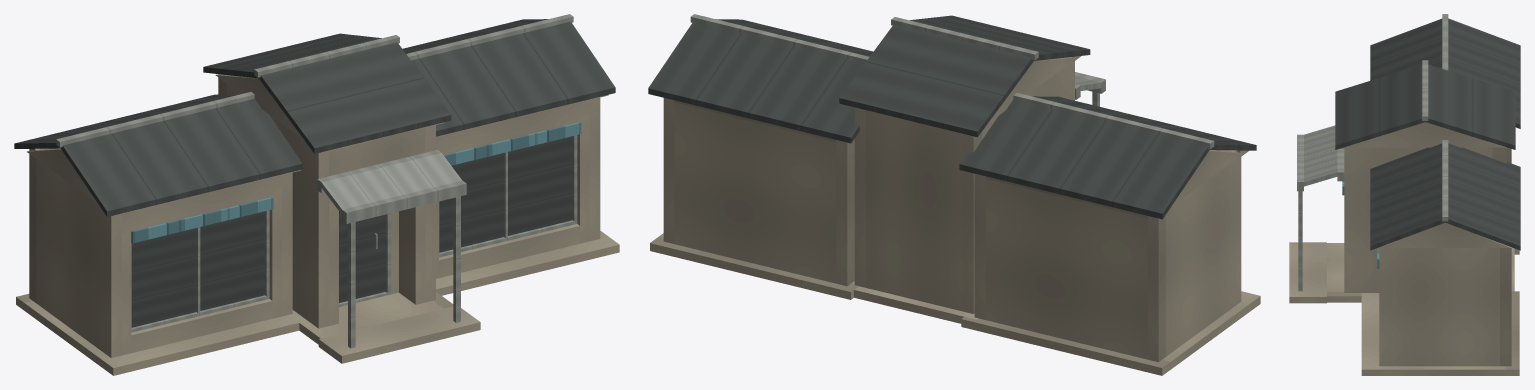
The picture shows the model from 3 angles, left to right: view 1: azimuth 30°, elevation 25°; view 2: azimuth 150°, elevation 25°; view 3: azimuth 270°, elevation 25°; orthographic projection. The views are drawn at different scales.
Visible parts, largest first — view 1: bogota; view 2: bogota; view 3: bogota.
Part boxes in pixels (left/top/right/bottom): bogota: left=14, top=14, right=619, bottom=375; bogota: left=648, top=14, right=1260, bottom=375; bogota: left=1289, top=14, right=1520, bottom=375.
Size of the model in its own units: 8.58 by 3.7 by 4.13.
1 material, 1 textured.
